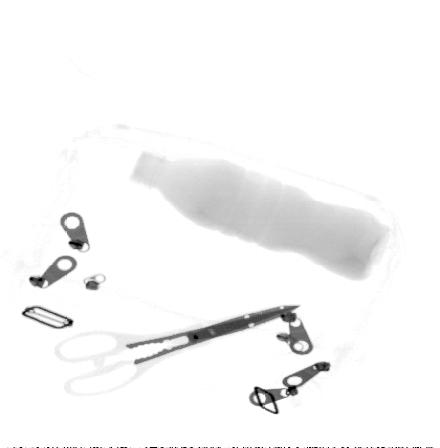Scissors: (54, 304, 300, 396)
